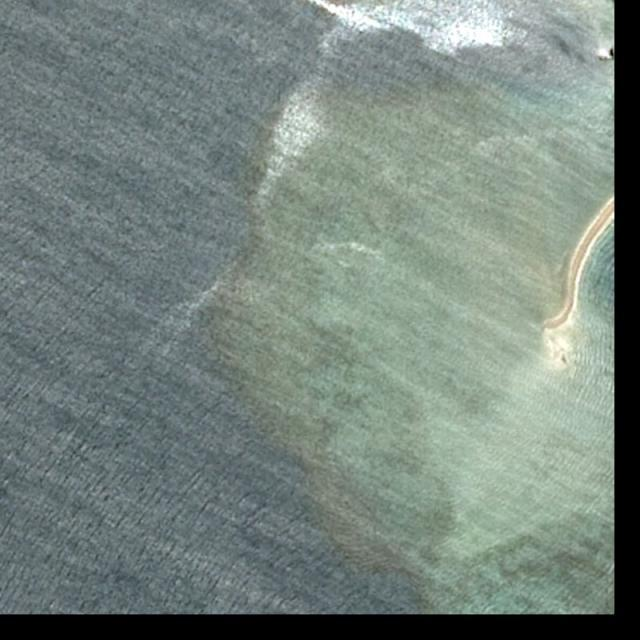ship: (611, 50, 614, 57)
